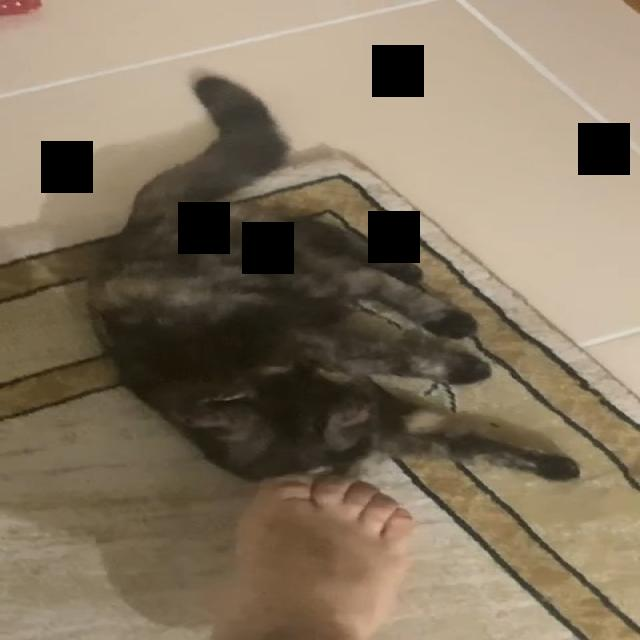authorized: (83, 69, 581, 485)
